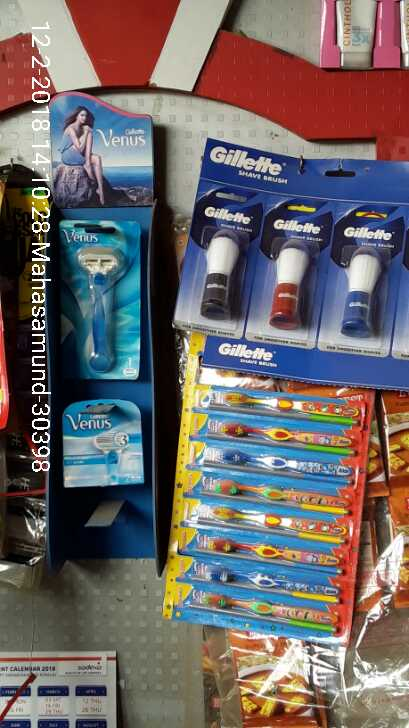beauty: (59, 217, 143, 375), (188, 180, 241, 324), (60, 397, 142, 485), (333, 231, 387, 348), (265, 219, 309, 337)
